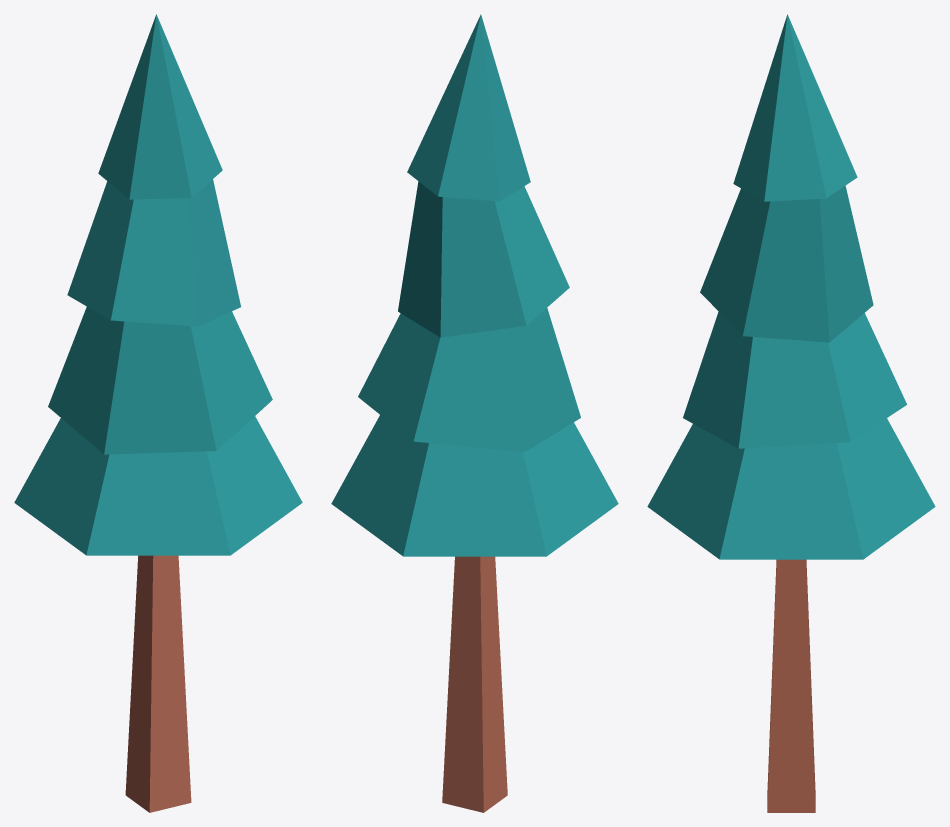
The model's file is tree_pineTallC.dae.
3 views of the same model, side by side, from view 1: azimuth 30°, elevation 25°; view 2: azimuth 150°, elevation 25°; view 3: azimuth 270°, elevation 25° (orthographic).
Visible parts, largest first — view 1: tree_pineTallC; view 2: tree_pineTallC; view 3: tree_pineTallC.
Part boxes in pixels (bbox=[...]): tree_pineTallC: bbox=[14, 14, 302, 812]; tree_pineTallC: bbox=[331, 14, 618, 812]; tree_pineTallC: bbox=[647, 14, 935, 812].
Size of the model in its own units: 0.4804 by 1.67 by 0.5547.
